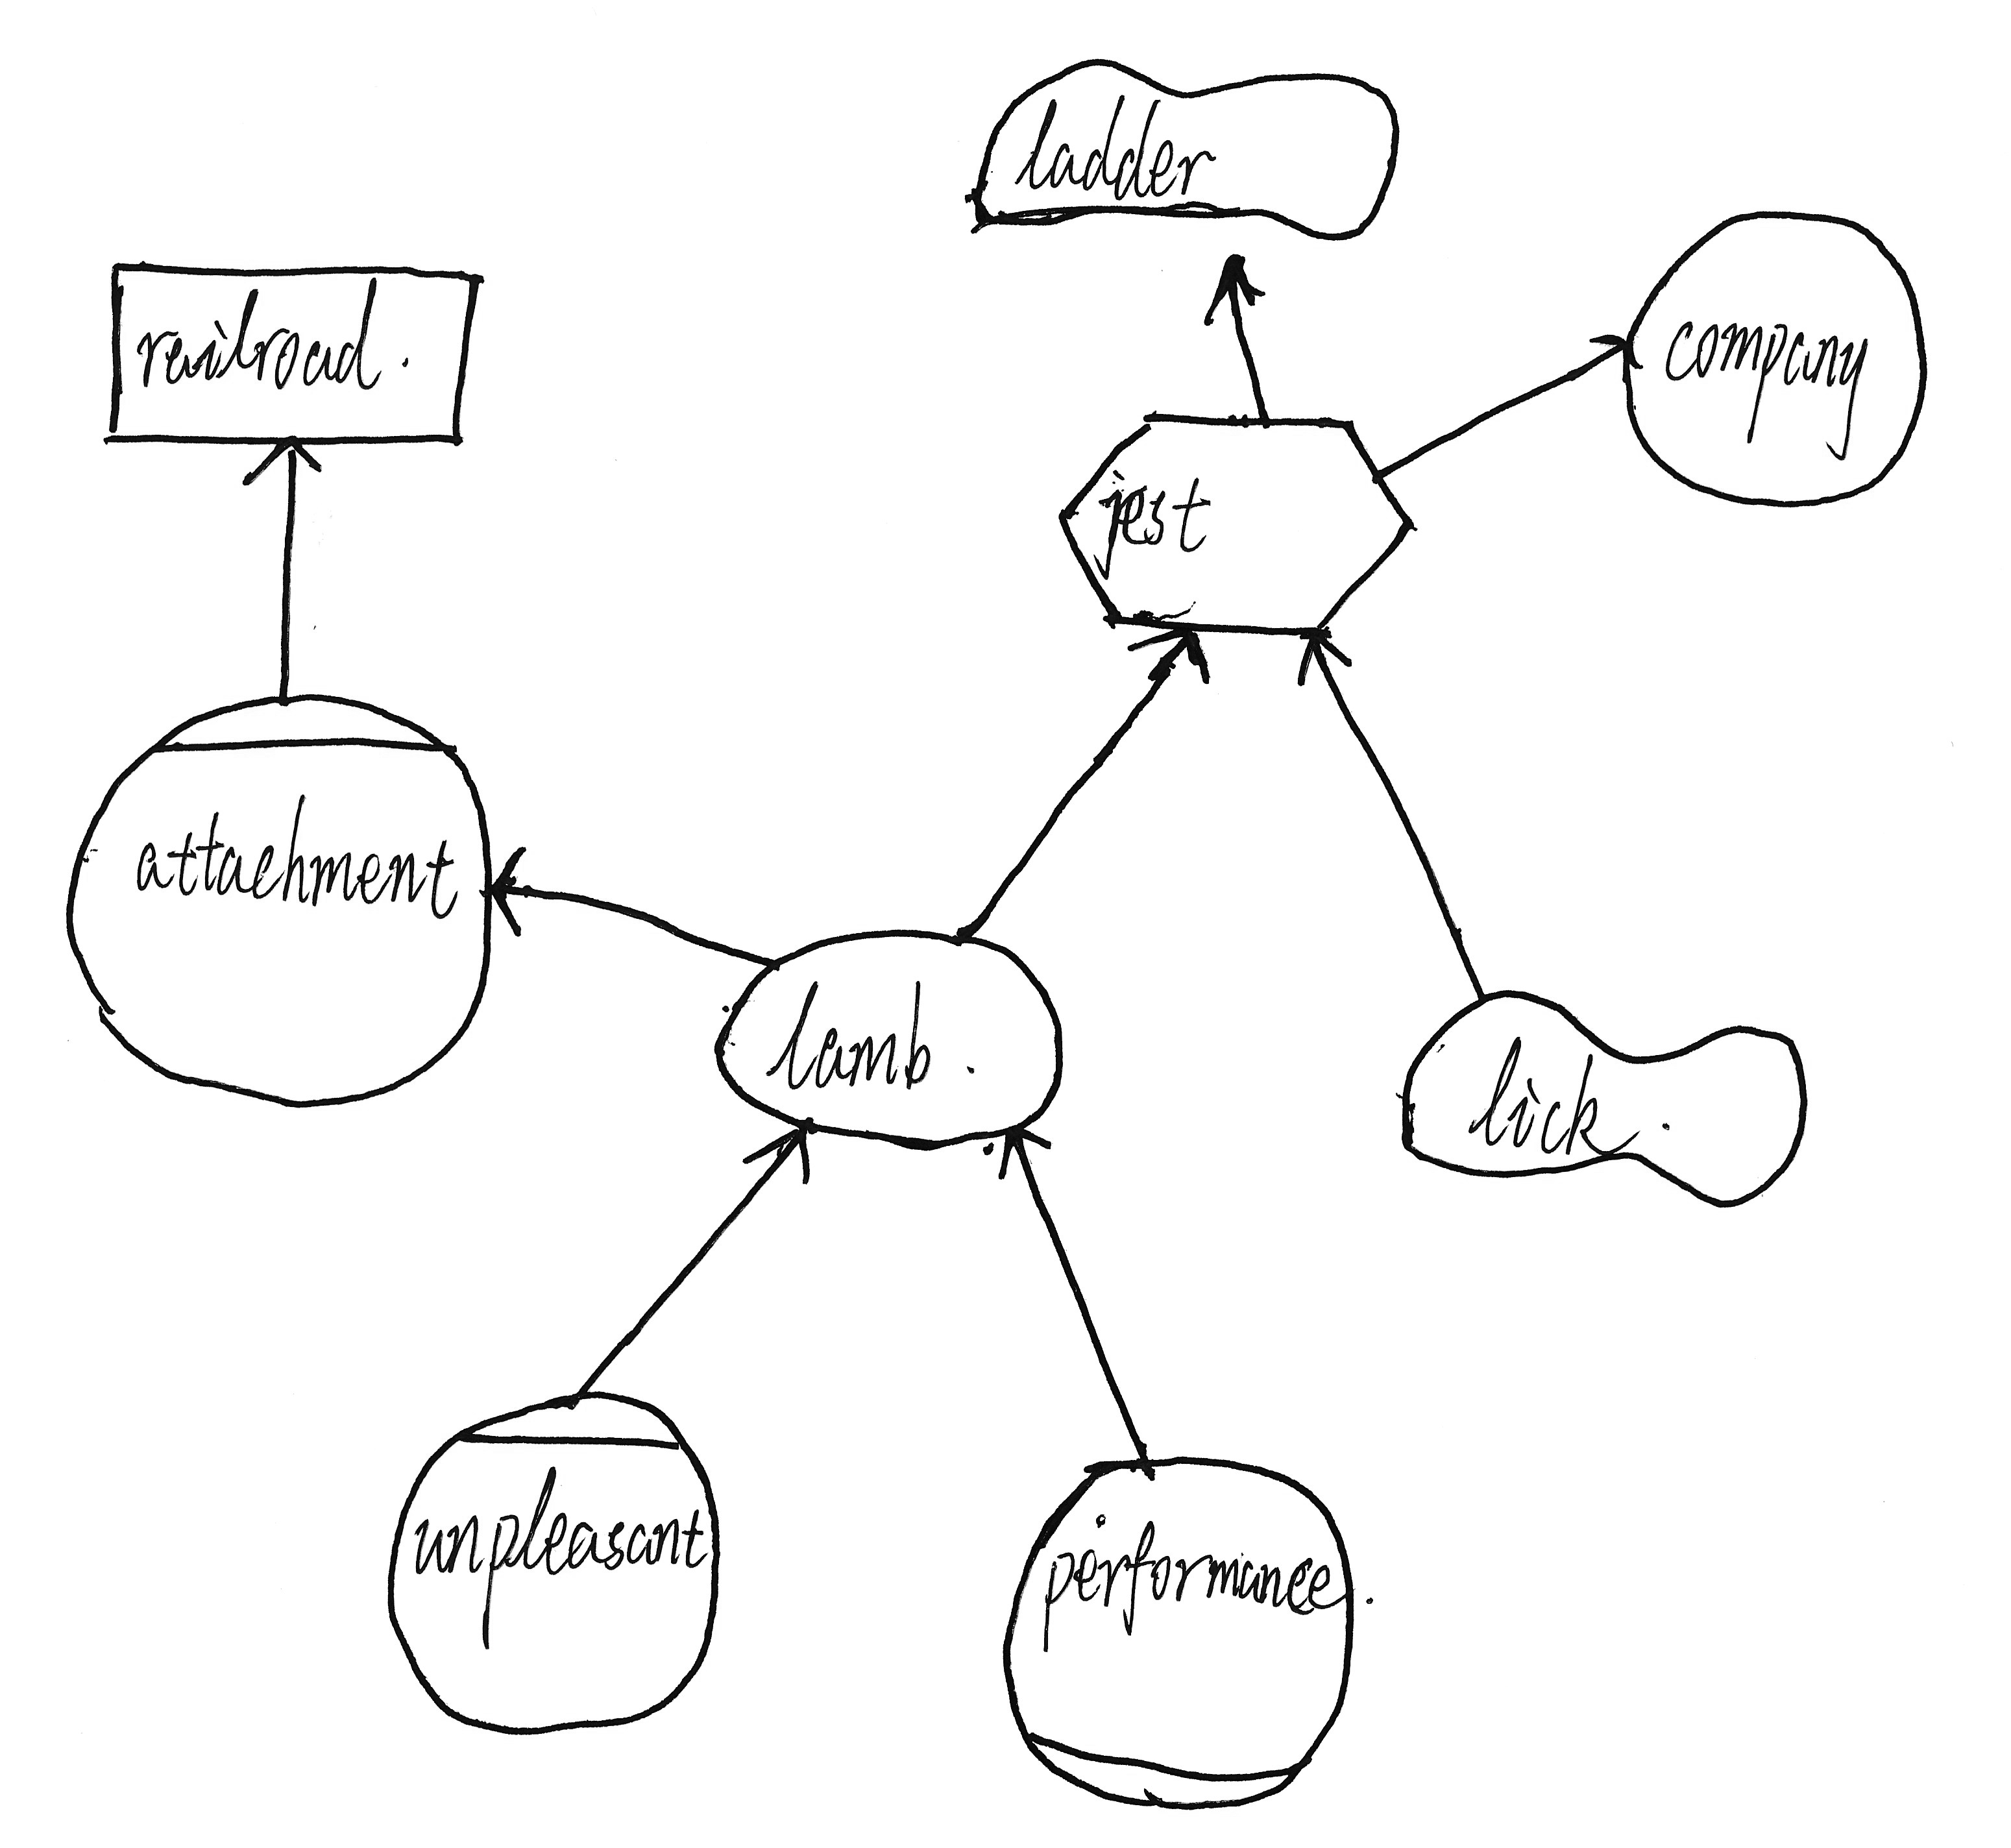actor: (1605, 187, 1946, 525)
agent: (49, 673, 517, 1121), (371, 1372, 748, 1752)
arrow: (1186, 245, 1281, 343), (730, 1116, 834, 1205), (1114, 610, 1219, 690), (1286, 620, 1379, 711), (231, 431, 349, 499), (476, 830, 541, 949), (1584, 319, 1650, 406), (984, 1121, 1065, 1188)
goal: (699, 906, 1076, 1160)
quality: (1379, 972, 1829, 1230), (956, 37, 1417, 263)
resource: (86, 243, 497, 469)
role: (986, 1433, 1379, 1829)
task: (1041, 394, 1426, 650)
